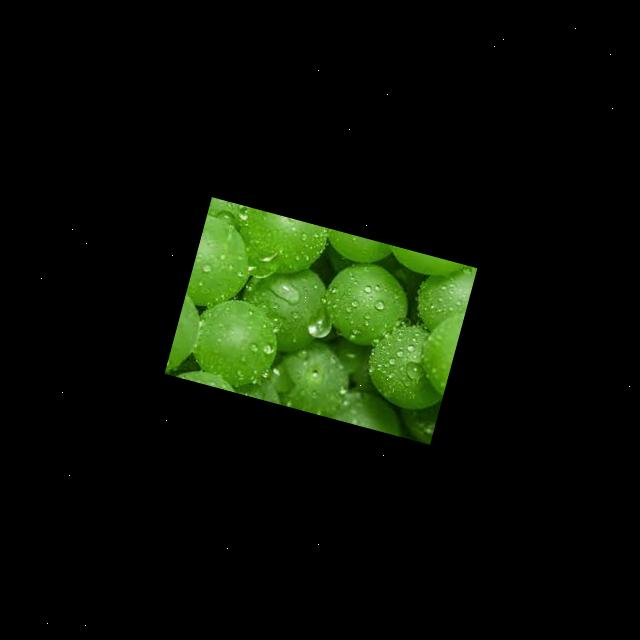grape: (164, 196, 476, 443)
